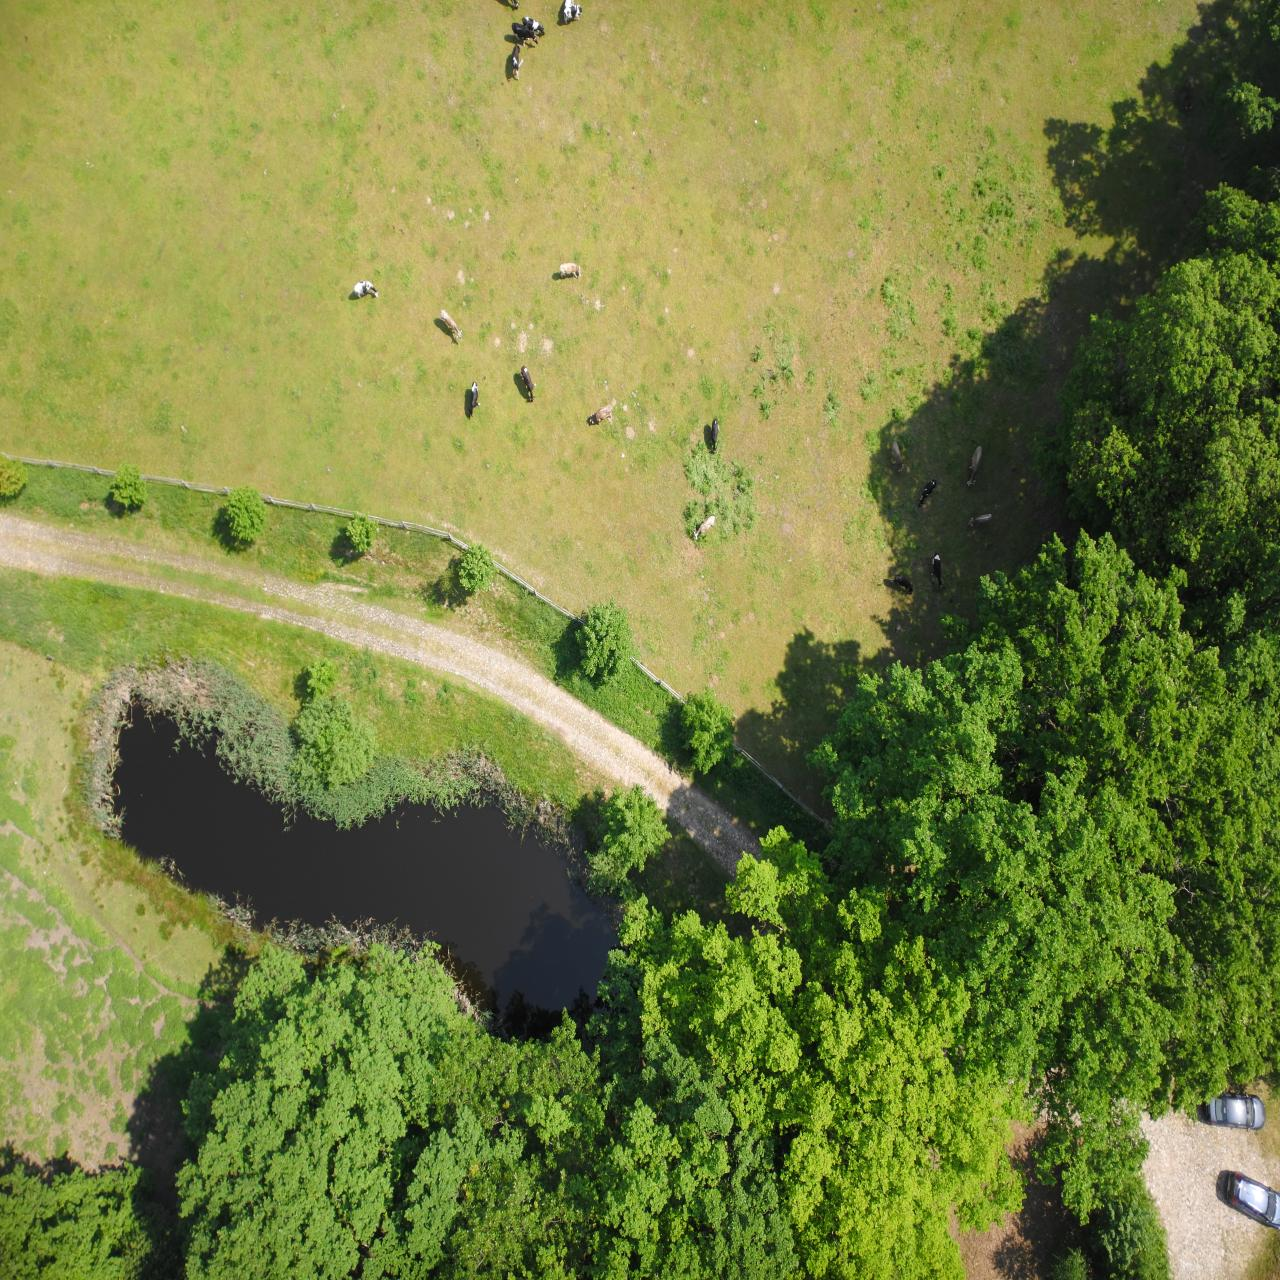cow: (817, 938, 839, 971), (742, 1236, 768, 1258), (744, 877, 759, 914), (564, 740, 586, 764), (668, 854, 690, 874), (800, 863, 812, 899), (757, 1200, 768, 1235), (902, 982, 925, 998), (698, 1001, 720, 1017), (735, 1246, 757, 1262), (560, 826, 570, 861)
